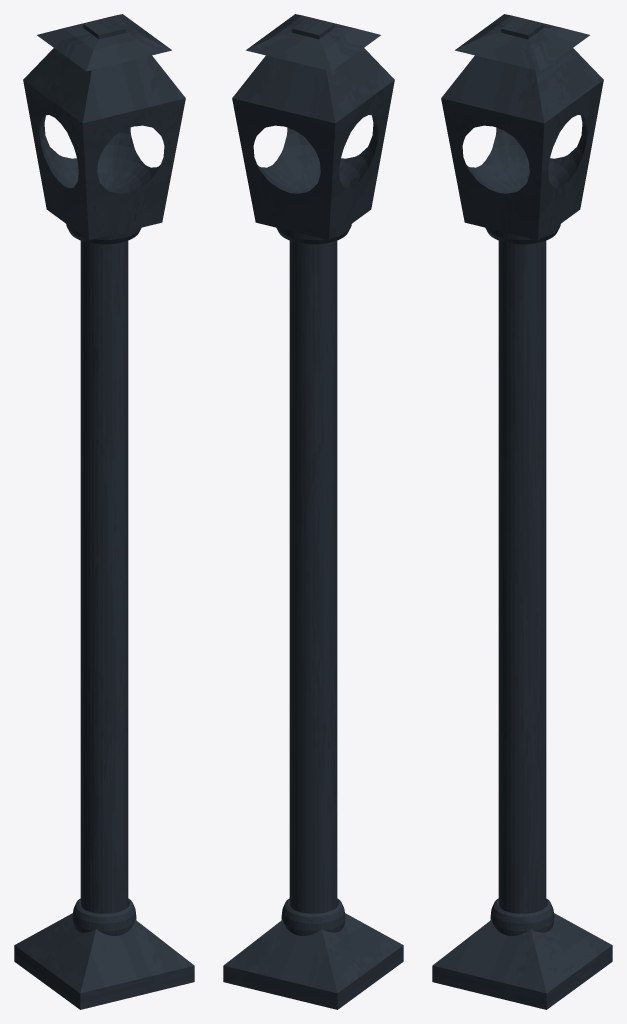
File: lamp2text.fbx
3 renders of one model, left to right at view 1: azimuth 30°, elevation 25°; view 2: azimuth 150°, elevation 25°; view 3: azimuth 330°, elevation 25°, orthographic.
Parts seen in each view (by area): view 1: Cylinder; view 2: Cylinder; view 3: Cylinder.
Part boxes in pixels (x1,y1,x2,y2): Cylinder: (14, 14, 194, 1009); Cylinder: (223, 14, 403, 1009); Cylinder: (432, 14, 612, 1009).
Size of the model in its own units: 100 by 791 by 100.
